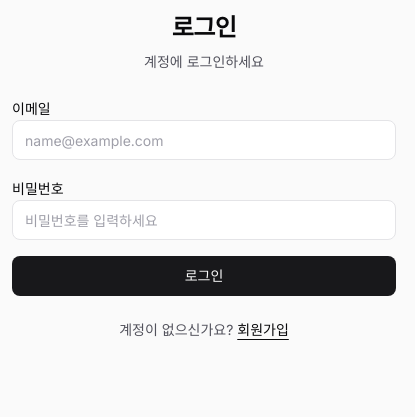
Login › 재시도 시 이전 에러 메시지가 사라진다
Type "test@example.com" into the field labelled "이메일". click: (204, 140)
box: [12,120,396,160]
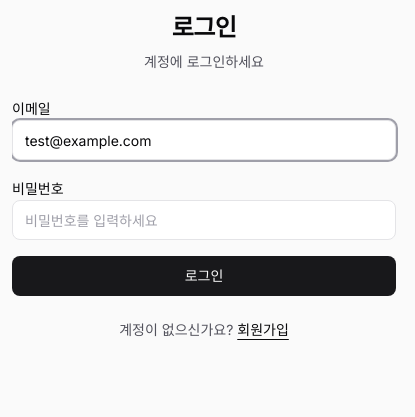
Type "Password1!" into the password field labelled "비밀번호". click: (204, 220)
box: [12,200,396,240]
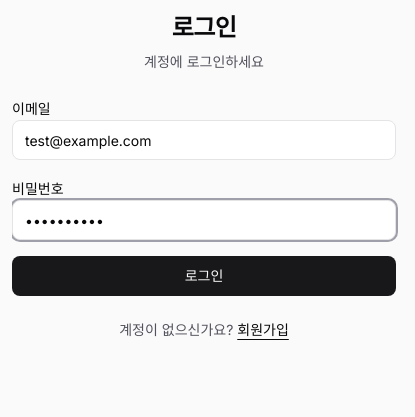
Click the button "로그인". click: (204, 276)
box: [12,256,396,296]
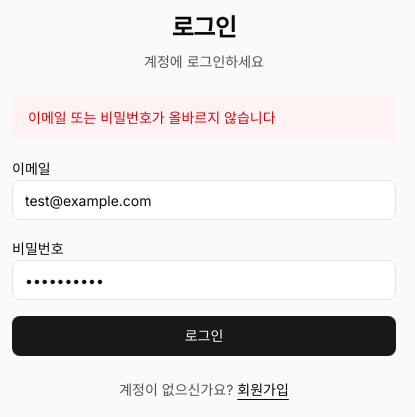
Expected: the message "이메일 또는 비밀번호가 올바르지 않습니다" is shown, [12,96,396,140]
Click the button "로그인". click: (204, 336)
box: [12,316,396,356]
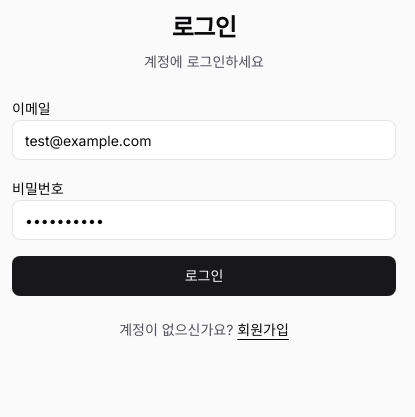
Expected: the message "이메일 또는 비밀번호가 올바르지 않습니다" is gone
